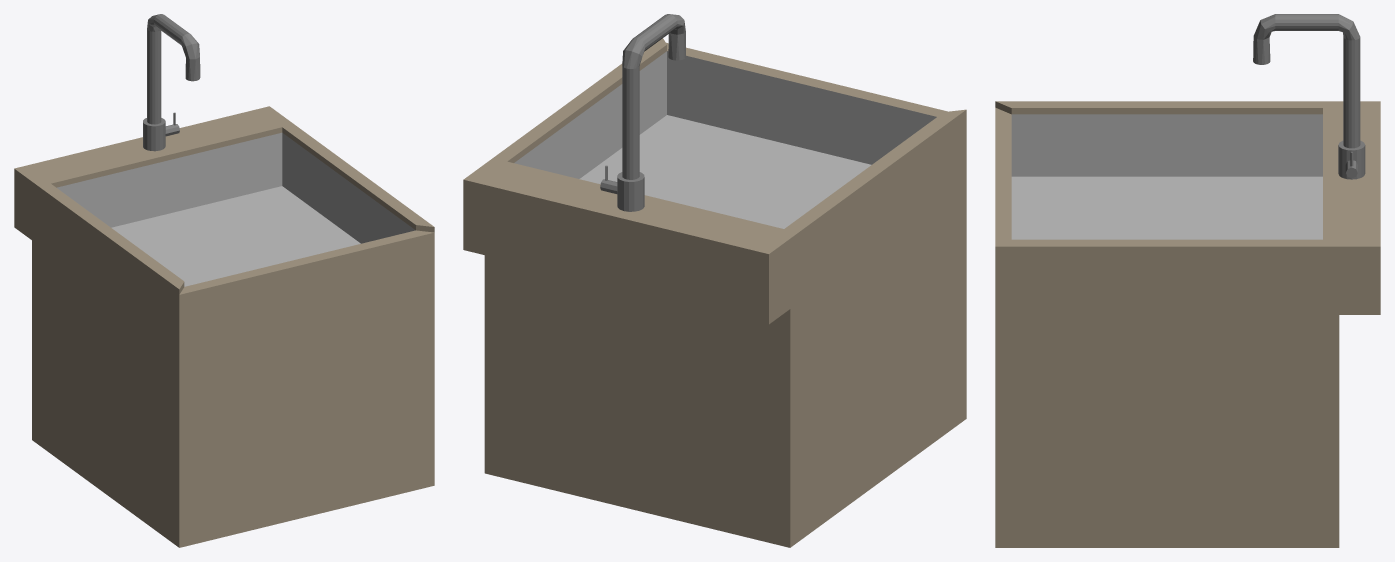
File: sink.glb
3 renders of one model, left to right at view 1: azimuth 30°, elevation 25°; view 2: azimuth 150°, elevation 25°; view 3: azimuth 270°, elevation 25°, orthographic. The views are drawn at different scales.
Visible parts, largest first — view 1: Cube; view 2: Cube; view 3: Cube.
Boxes of the visible parts, box(x1,y1,x2,y2) form: Cube: box(14, 14, 434, 547); Cube: box(463, 14, 966, 547); Cube: box(995, 14, 1380, 547).
Bounding box in the file's own units: 2 × 2.96 × 2.24.
